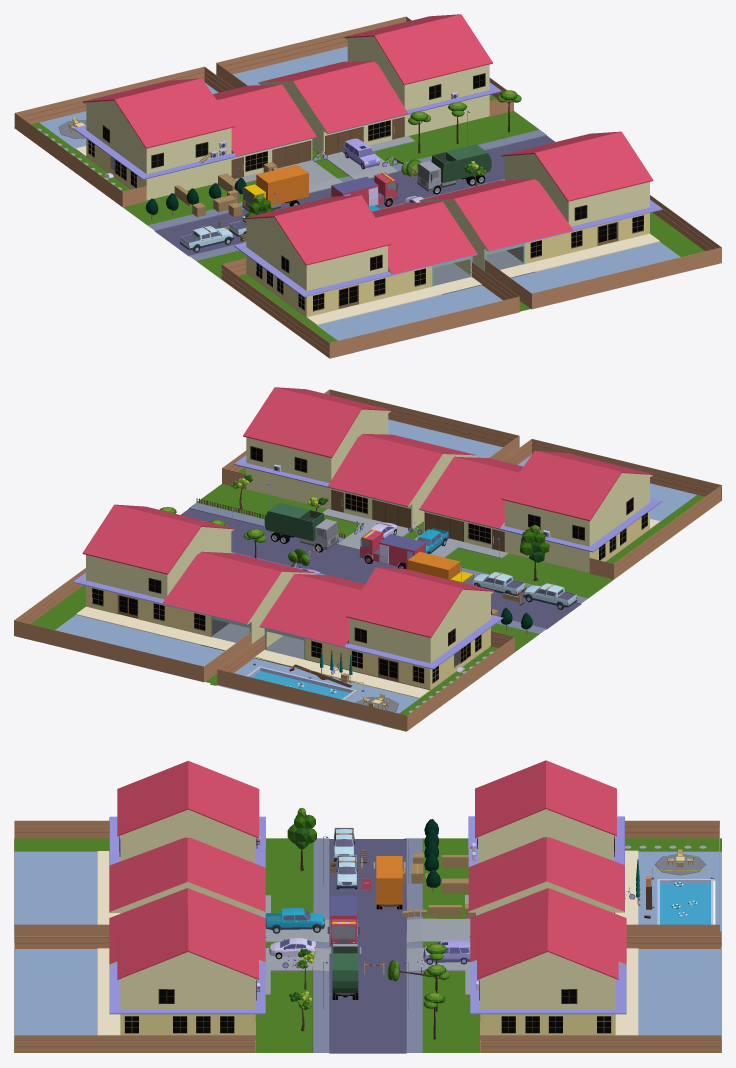
Rendered from MapLevel04.fbx.
3 views of the same model, one above another, from view 1: azimuth 30°, elevation 25°; view 2: azimuth 150°, elevation 25°; view 3: azimuth 270°, elevation 25° (orthographic). The views are drawn at different scales.
Visible parts, largest first — view 1: HouseType01, HouseType01.001, Walls.001, WoodFences, Floor, TruckGarbage, TruckBox, TruckFirefihgter, PickupPolice.001, GarageDoor, Car; view 2: HouseType01, HouseType01.001, Walls.001, WoodFences, Floor, TruckGarbage, TruckFirefihgter, Pool, TruckBox, PickupPolice.001, TreeMidle, PickupPolice; view 3: HouseType01, HouseType01.001, Walls.001, Floor, WoodFences, Pool, TruckGarbage, TruckBox, TruckFirefihgter, Pickup, TreeMidle, Car (+4 smaller).
Part boxes in pixels (x1,y1,x2,y2): HouseType01: (216,14,721,310); HouseType01.001: (148,177,524,358); Walls.001: (73,78,316,200); WoodFences: (14,66,234,207); Floor: (14,82,343,225); TruckGarbage: (417,144,491,194); TruckBox: (242,164,308,212); TruckFirefihgter: (331,172,397,206); PickupPolice.001: (180,226,233,252); GarageDoor: (272,140,311,168); Car: (342,138,379,169); HouseType01: (14,387,519,683); HouseType01.001: (353,439,721,633); Walls.001: (259,567,502,689); WoodFences: (217,631,514,730); Floor: (210,623,539,731); TruckGarbage: (264,502,338,552); TruckFirefihgter: (359,529,425,569); Pool: (246,666,357,700); TruckBox: (407,551,473,585); PickupPolice.001: (523,583,577,609); TreeMidle: (519,524,549,580); PickupPolice: (473,572,525,595); HouseType01: (14,888,721,1053); HouseType01.001: (14,760,422,946); Walls.001: (468,760,624,914); Floor: (422,838,721,945); WoodFences: (625,820,719,931); Pool: (657,879,713,924); TruckGarbage: (329,944,361,999); TruckBox: (373,856,405,909); TruckFirefihgter: (327,896,359,948); Pickup: (265,908,324,933); TreeMidle: (287,808,316,870); Car: (423,940,470,964).
Bounding box in the file's own units: 4753 × 971 × 6623.
10 materials, 5 textured.
